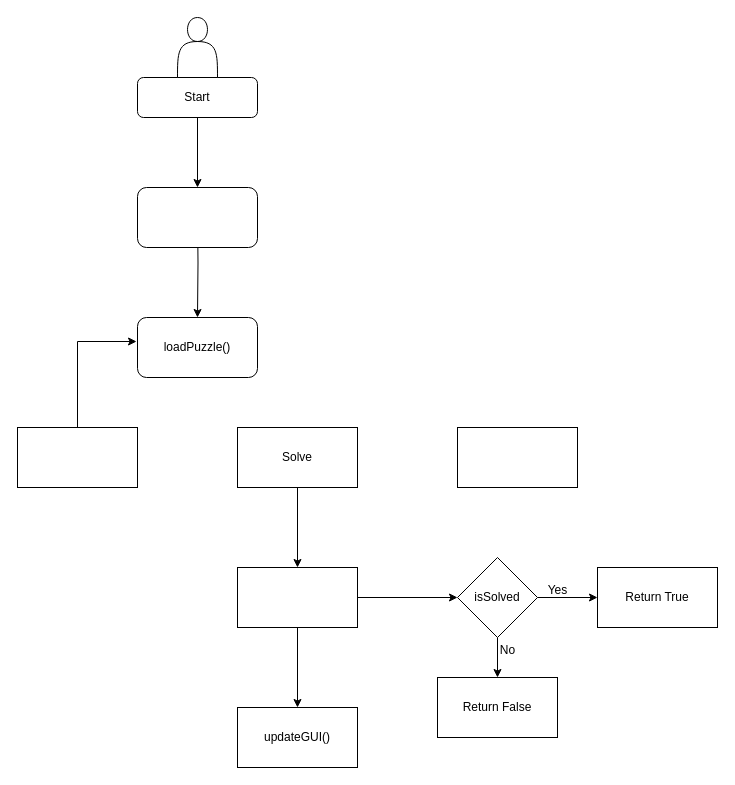
The diagram is 735 pixels wide and 785 high, and some of its shapes have lost their labels. Here are the shapes that lost their labels. From the top down, the centre of each, then its label:
At point (197, 217): "SudokuSolverGUI()".
At point (77, 457): "Load Puzzel".
At point (517, 457): "Speed".
At point (297, 597): "solvePuzzle()".
